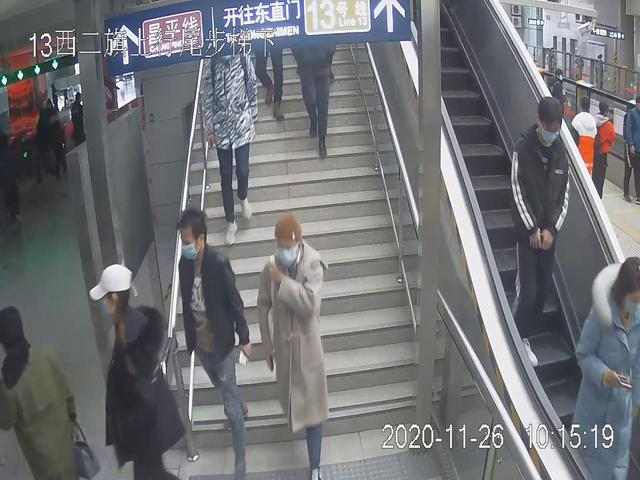person: (172, 199, 257, 479), (87, 261, 187, 480), (254, 210, 332, 480), (509, 94, 573, 378), (567, 246, 640, 480), (197, 33, 257, 249), (287, 35, 342, 161)
